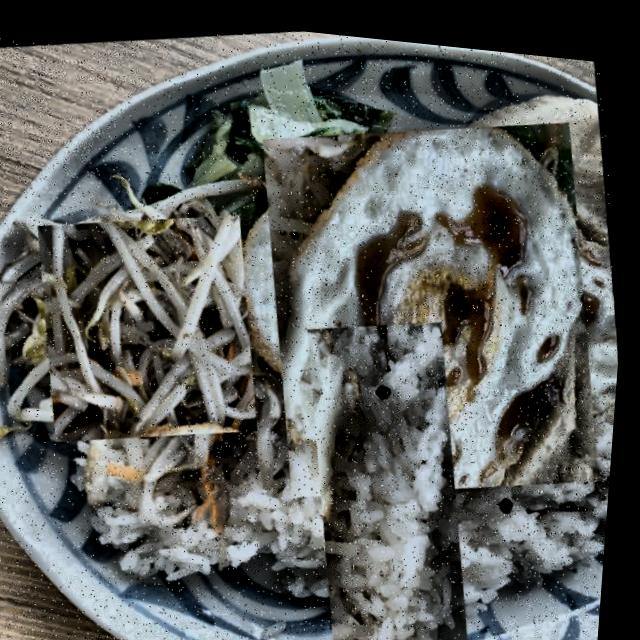Food: (230, 93, 636, 507), (244, 342, 549, 640), (23, 193, 278, 454)
